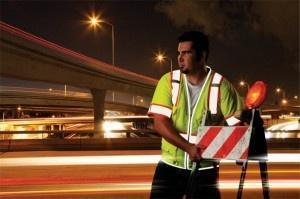vest: (148, 71, 235, 168)
